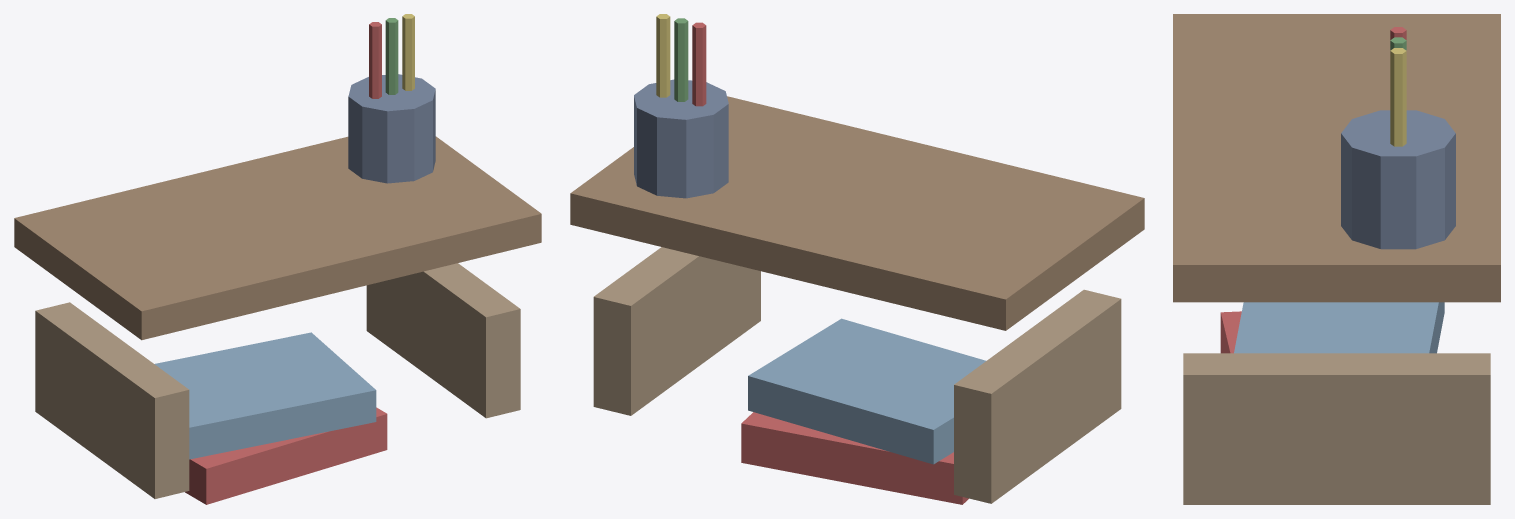
Rendered from office_suporte_monitor.glb.
The picture shows the model from 3 angles, left to right: view 1: azimuth 30°, elevation 25°; view 2: azimuth 150°, elevation 25°; view 3: azimuth 270°, elevation 25°; orthographic projection. The views are drawn at different scales.
Parts seen in each view (by area): view 1: OFFICE_SUPORTE_MONITOR; view 2: OFFICE_SUPORTE_MONITOR; view 3: OFFICE_SUPORTE_MONITOR.
Part boxes in pixels (x1,y1,x2,y2): OFFICE_SUPORTE_MONITOR: (14, 14, 541, 504); OFFICE_SUPORTE_MONITOR: (570, 14, 1144, 504); OFFICE_SUPORTE_MONITOR: (1173, 14, 1500, 504).
Size of the model in its own units: 0.29 by 0.2575 by 0.16.
